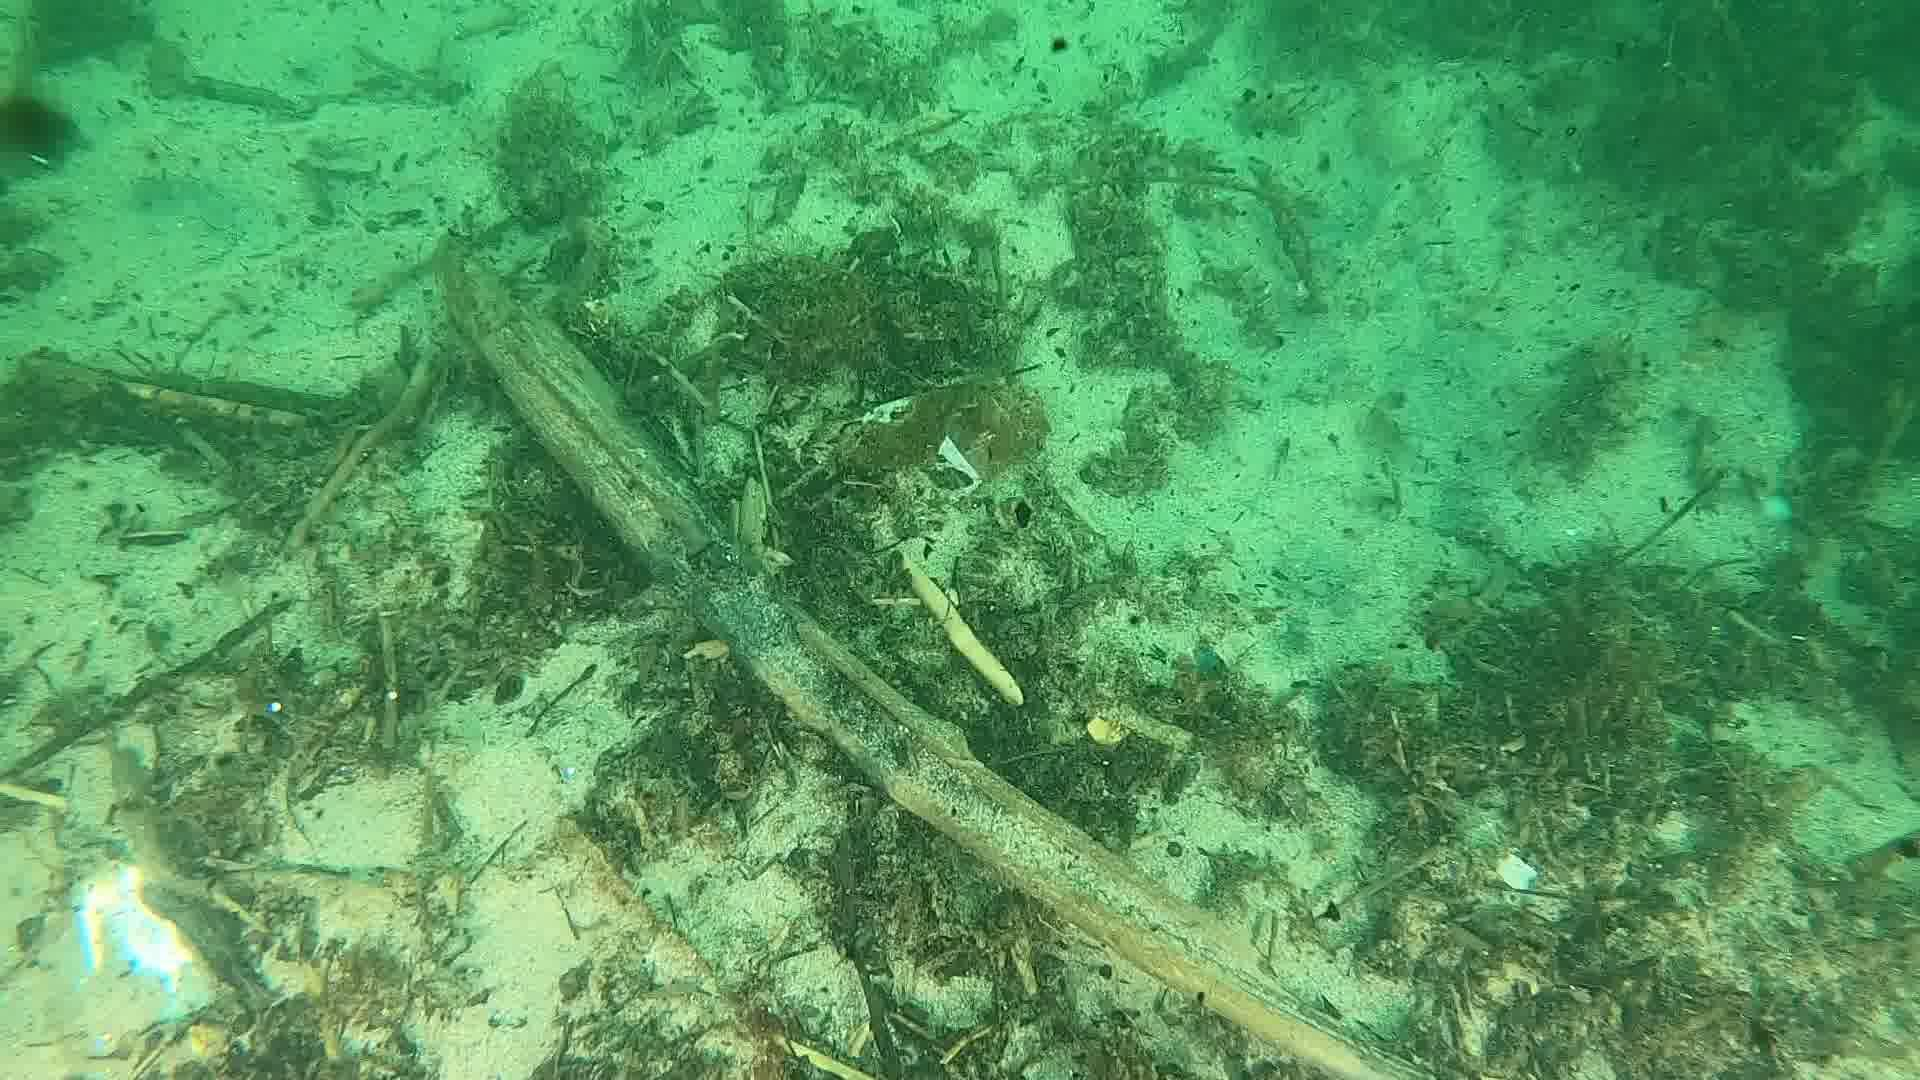wood: (443, 247, 1429, 1080)
